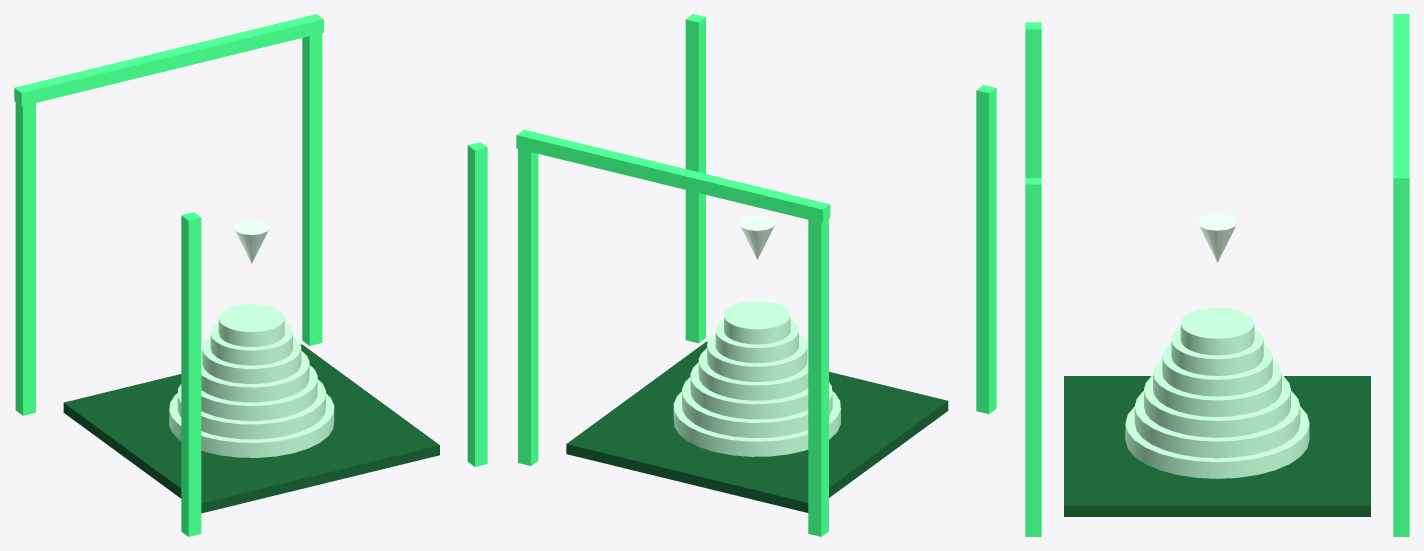
File: tdp.glb
The picture shows the model from 3 angles, left to right: view 1: azimuth 30°, elevation 25°; view 2: azimuth 150°, elevation 25°; view 3: azimuth 270°, elevation 25°; orthographic projection. The views are drawn at different scales.
Bounding box in the file's own units: 1.96 × 2 × 1.94.
